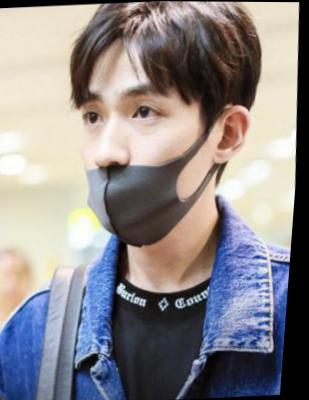WRONG: (72, 75, 213, 249)
